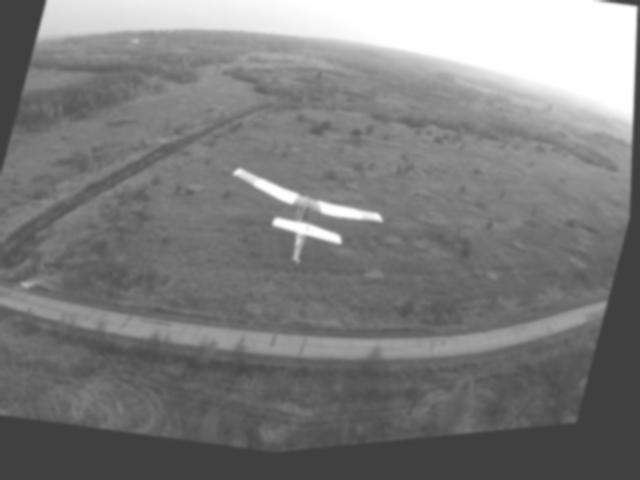hedef: (204, 149, 408, 309)
